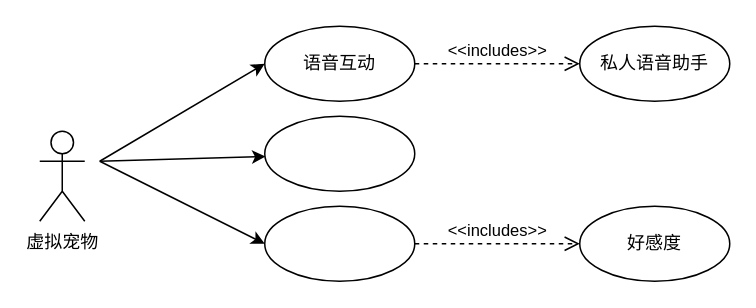
This 756x308 diagram has some shape labels left out. Each missing label, with the box of its shape:
游戏: (263, 205, 415, 281)
视觉效果: (263, 115, 415, 191)
